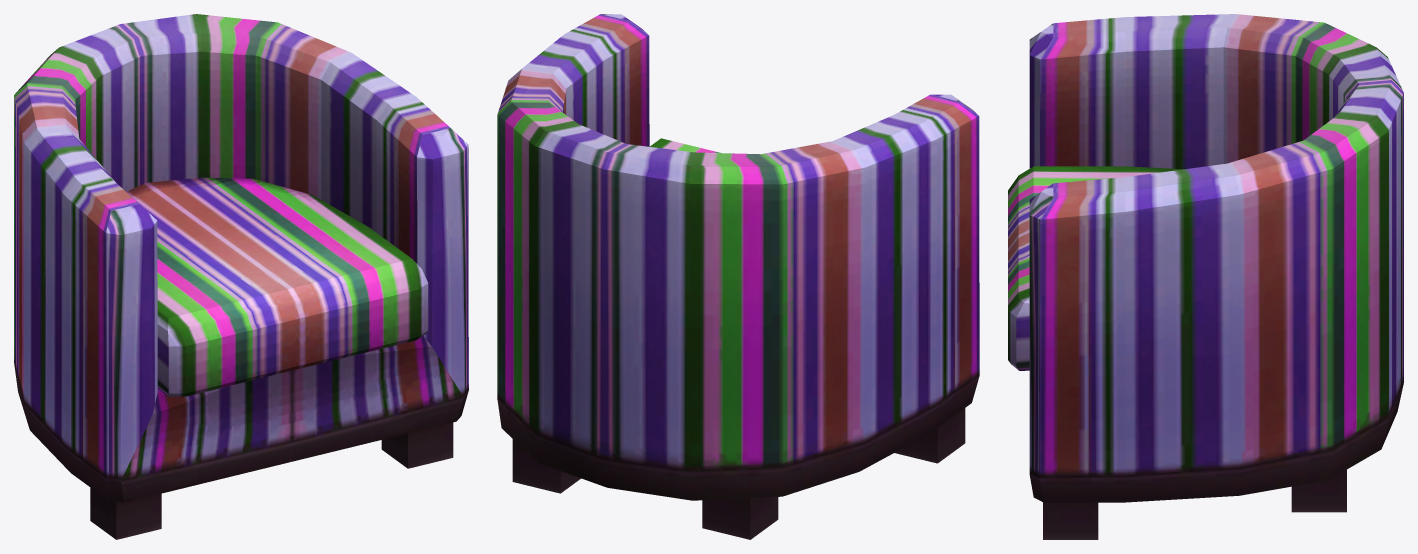
The model's file is furni_0200613_01.FBX.
3 renders of one model, left to right at view 1: azimuth 30°, elevation 25°; view 2: azimuth 150°, elevation 25°; view 3: azimuth 270°, elevation 25°, orthographic. The views are drawn at different scales.
Visible parts, largest first — view 1: furni_0200613_01; view 2: furni_0200613_01; view 3: furni_0200613_01.
Part boxes in pixels (x1=…): furni_0200613_01: x1=14, y1=14, x2=468, y2=539; furni_0200613_01: x1=497, y1=14, x2=979, y2=539; furni_0200613_01: x1=1008, y1=14, x2=1403, y2=539.
Bounding box in the file's own units: 80 × 74.49 × 71.76.
1 material, 1 textured.
